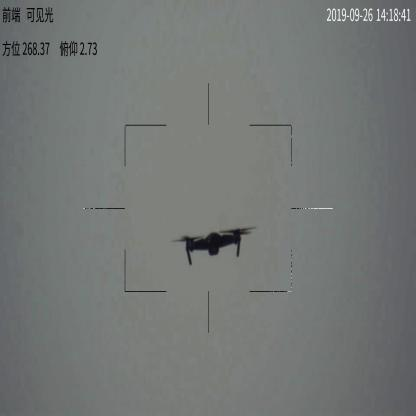uav: (168, 225, 256, 268)
